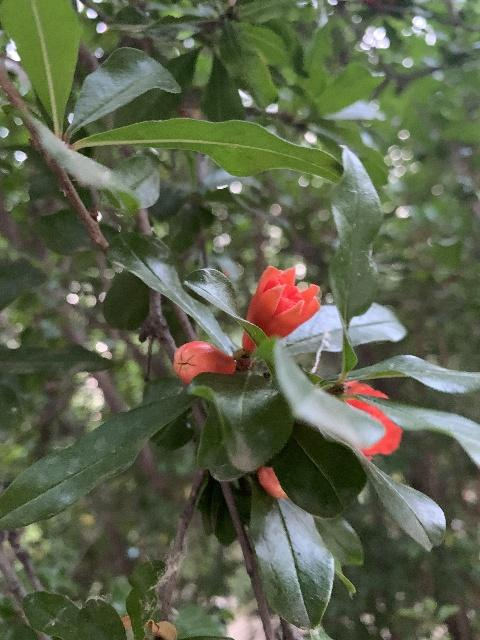bud: (173, 340, 235, 385), (256, 464, 287, 499)
flower: (242, 264, 322, 346)
